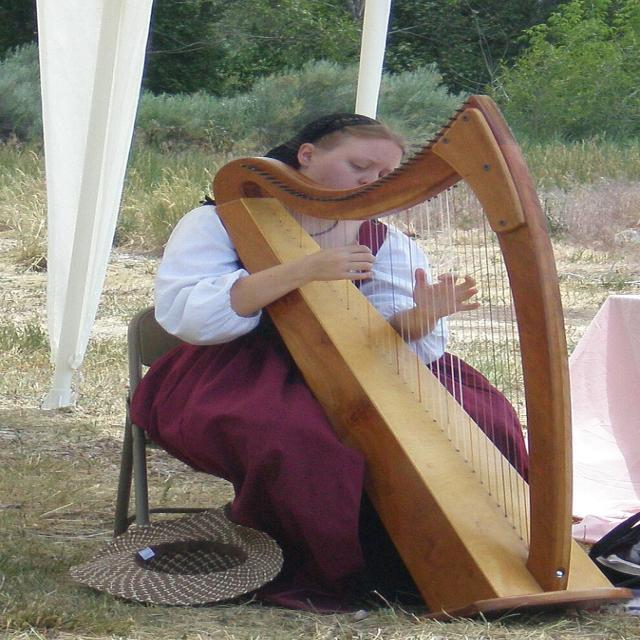harp: (207, 93, 635, 622)
